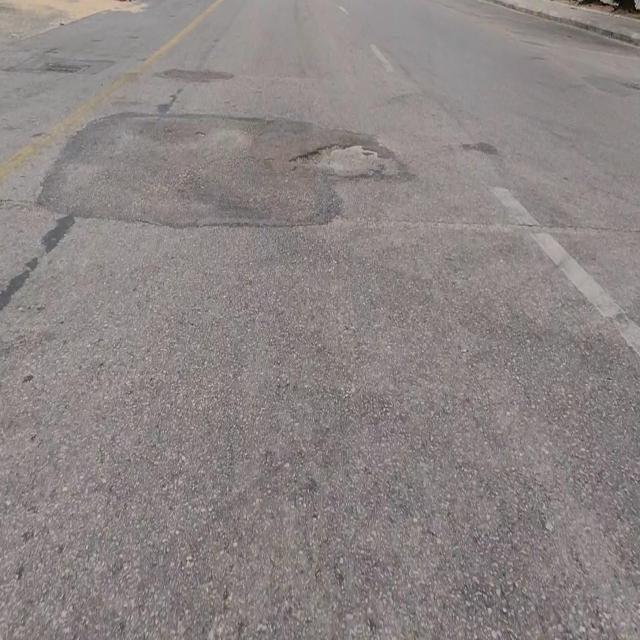Potholes: (286, 138, 400, 174)
